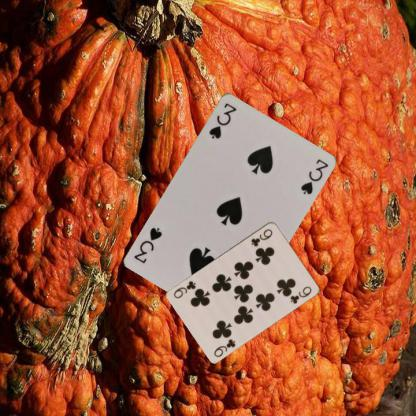3s: (206, 100, 238, 140)
9c: (248, 226, 274, 248), (211, 336, 237, 358)
